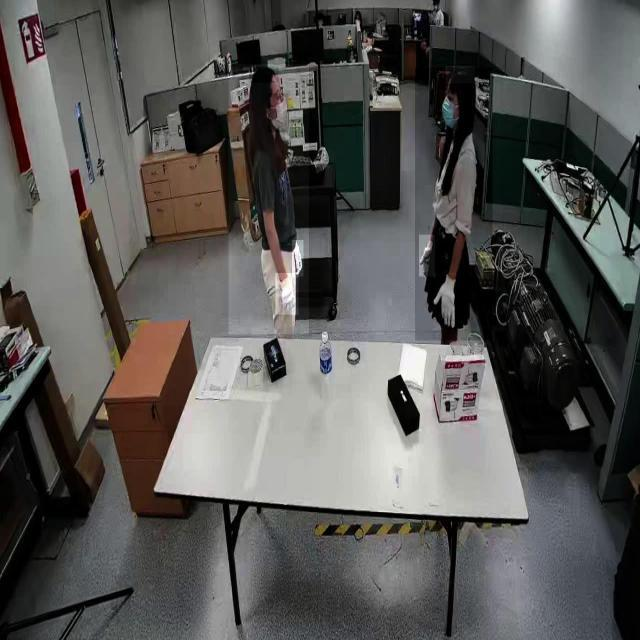gloves: (433, 272, 457, 332), (275, 272, 299, 316), (418, 235, 436, 278), (292, 240, 304, 278)
